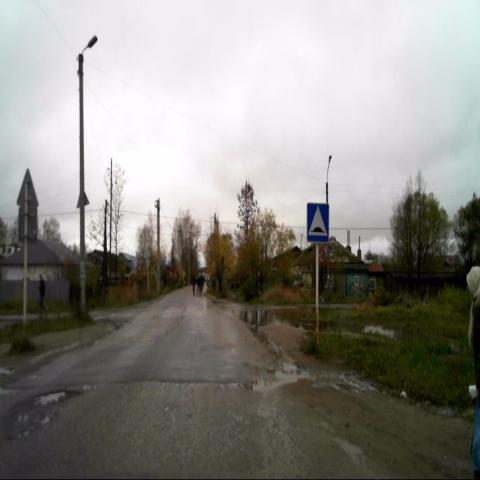5_20: (306, 202, 330, 243)
